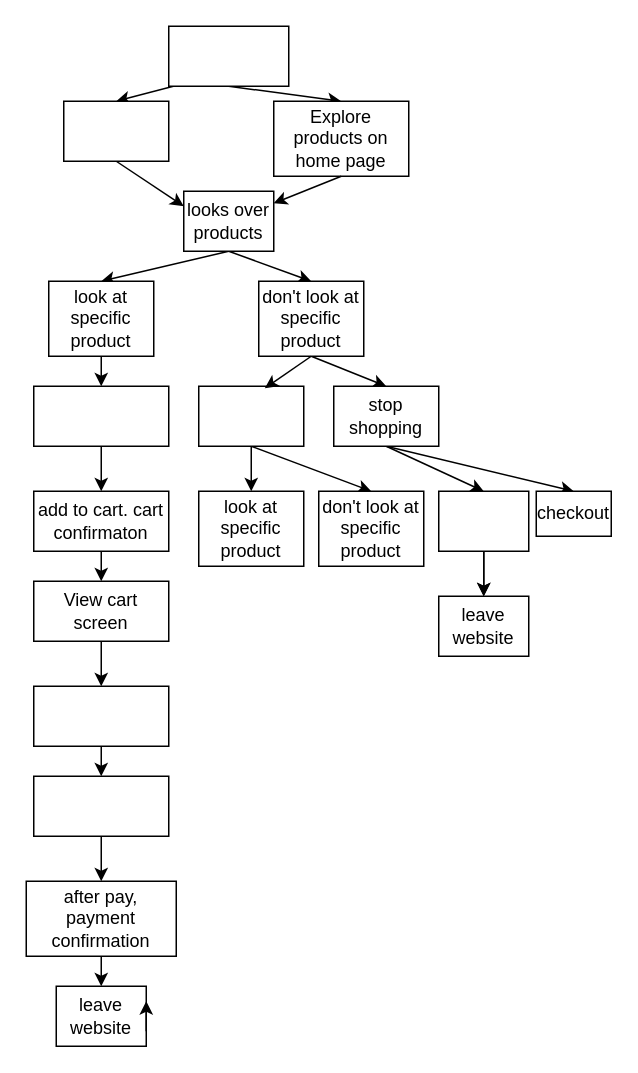
Some shapes in this 638 by 1073 pixel diagram are drawn without their labels. The box of each missing label's shape, as (x1, y1, x2, y2) in pixels:
continue shopping: (197, 385, 304, 446)
don't checkout: (437, 490, 529, 551)
input payment info: (32, 775, 169, 836)
Search for product: (62, 100, 169, 161)
specfc product page opens: (32, 385, 169, 446)
User enters website: (167, 25, 289, 86)
View payment: (32, 685, 169, 746)
